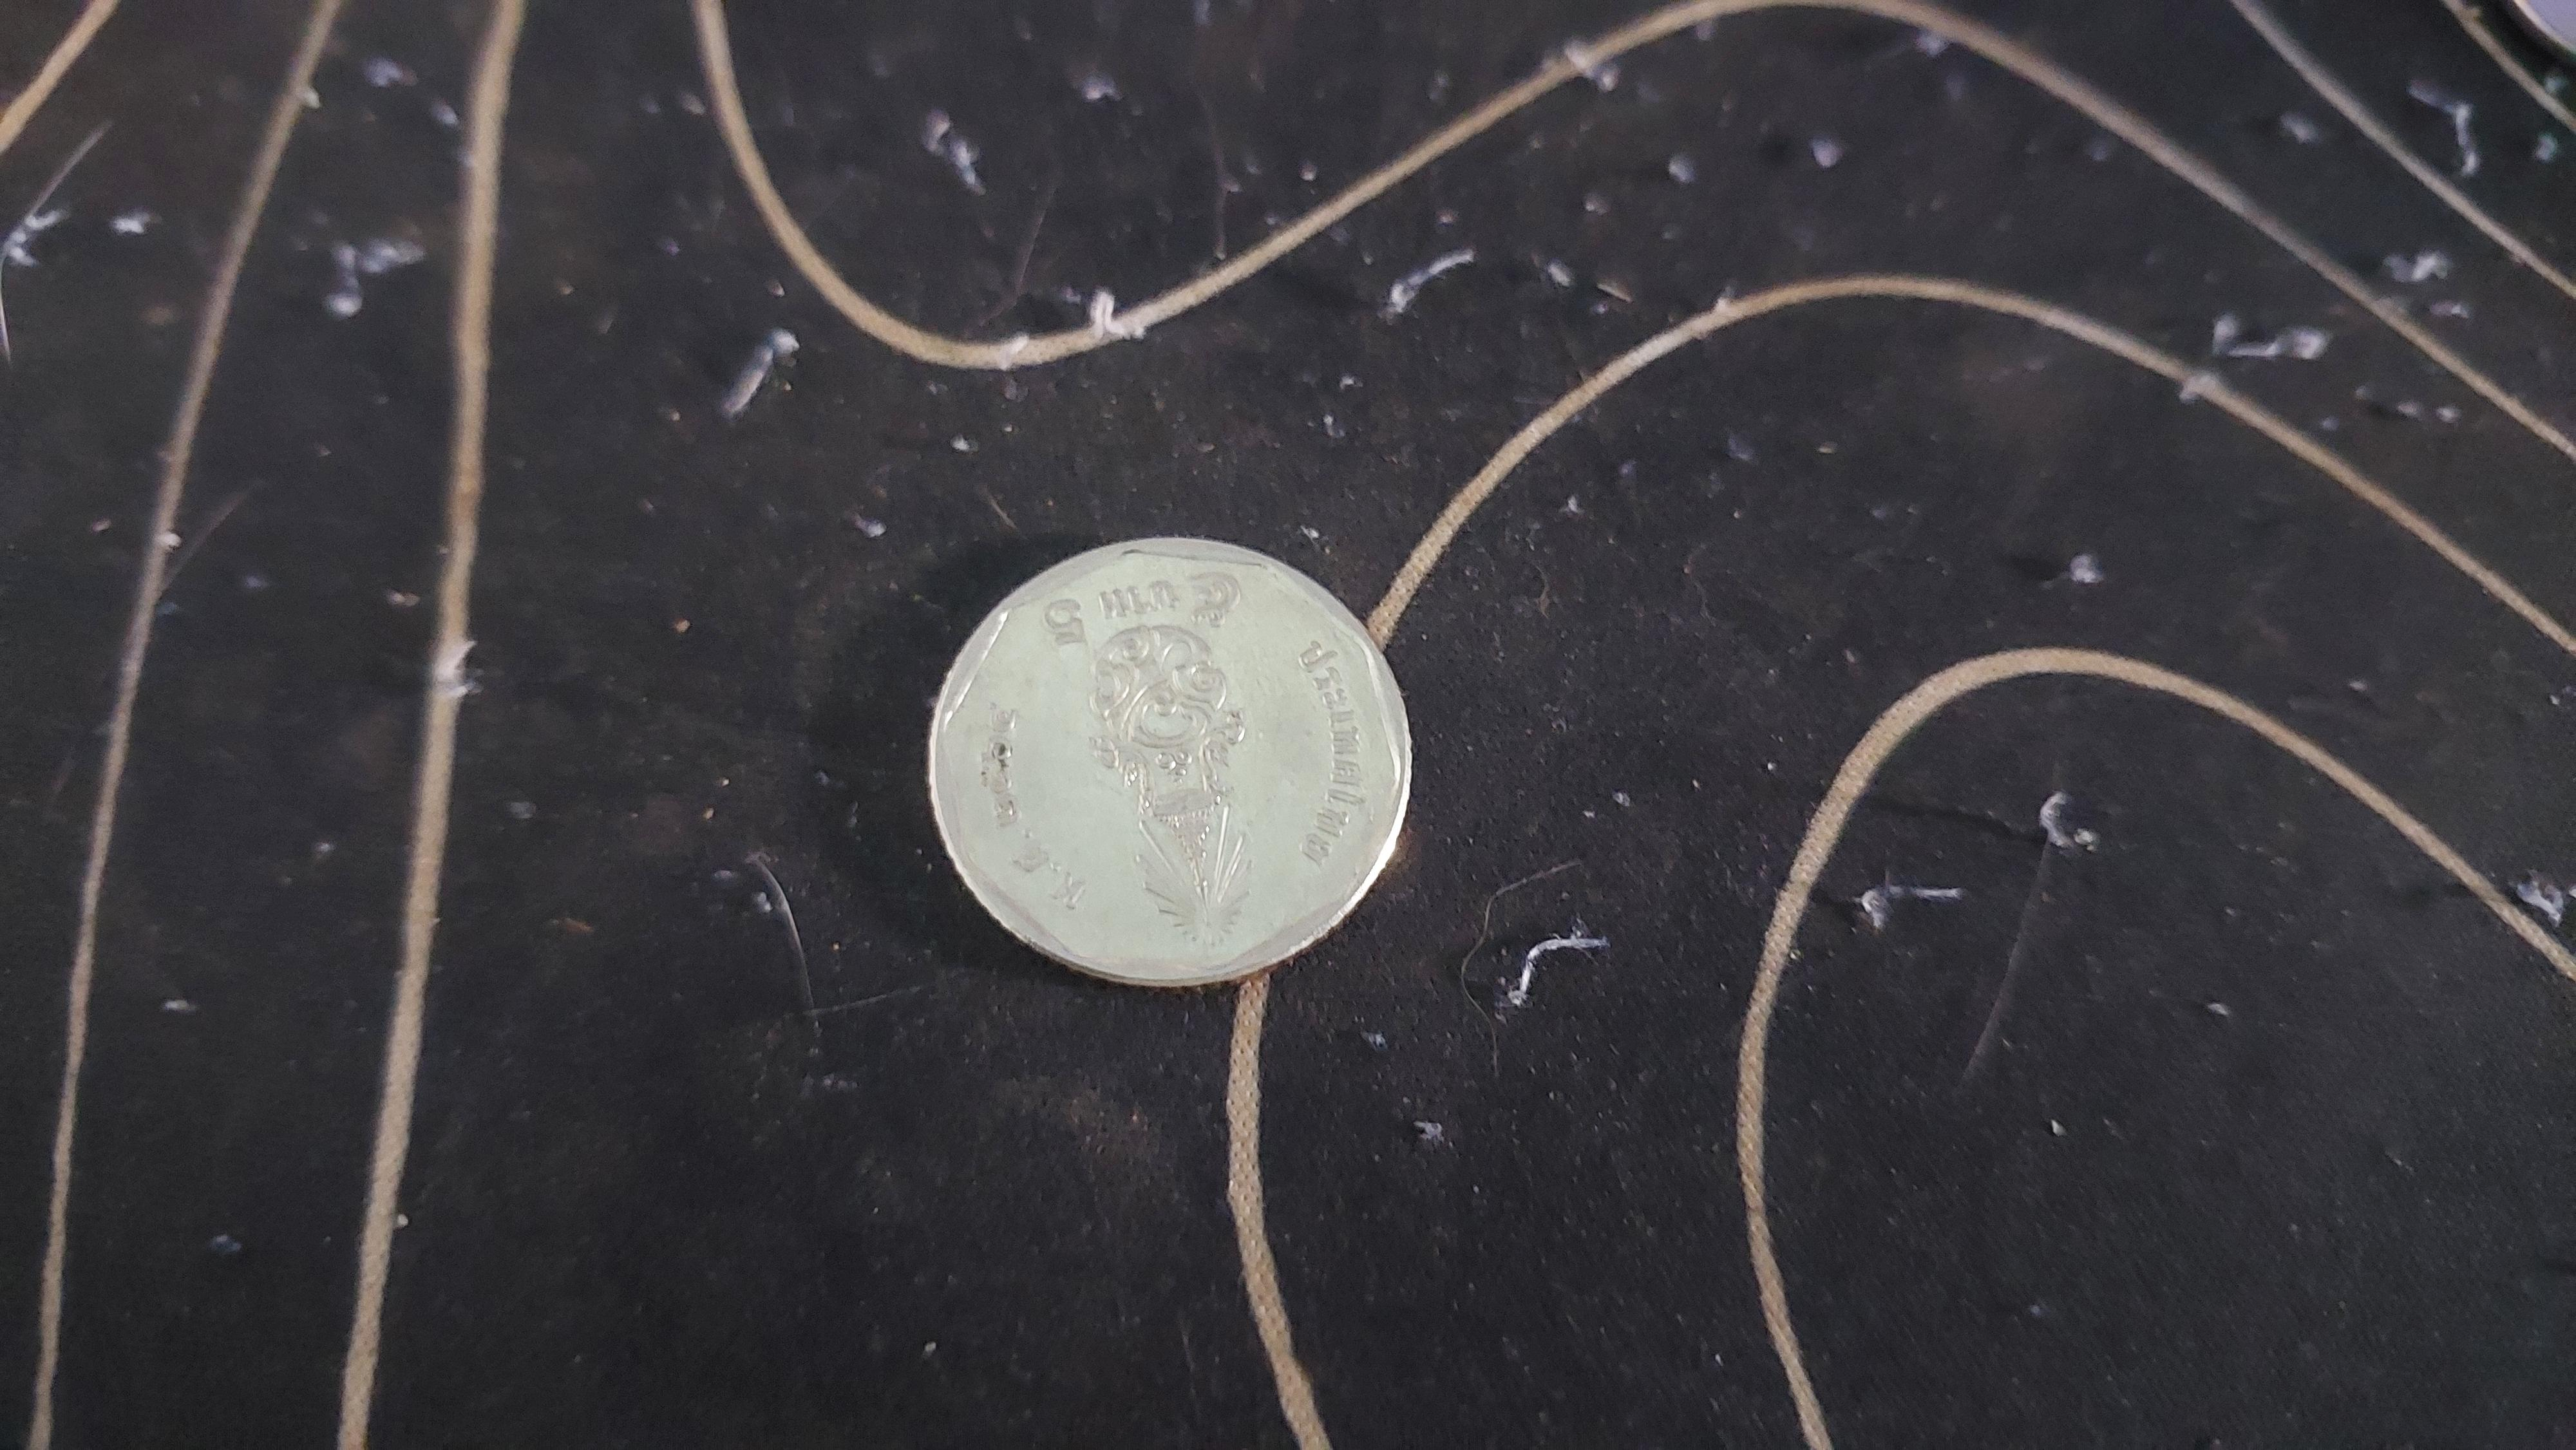5baht: (824, 506, 1530, 1022)
